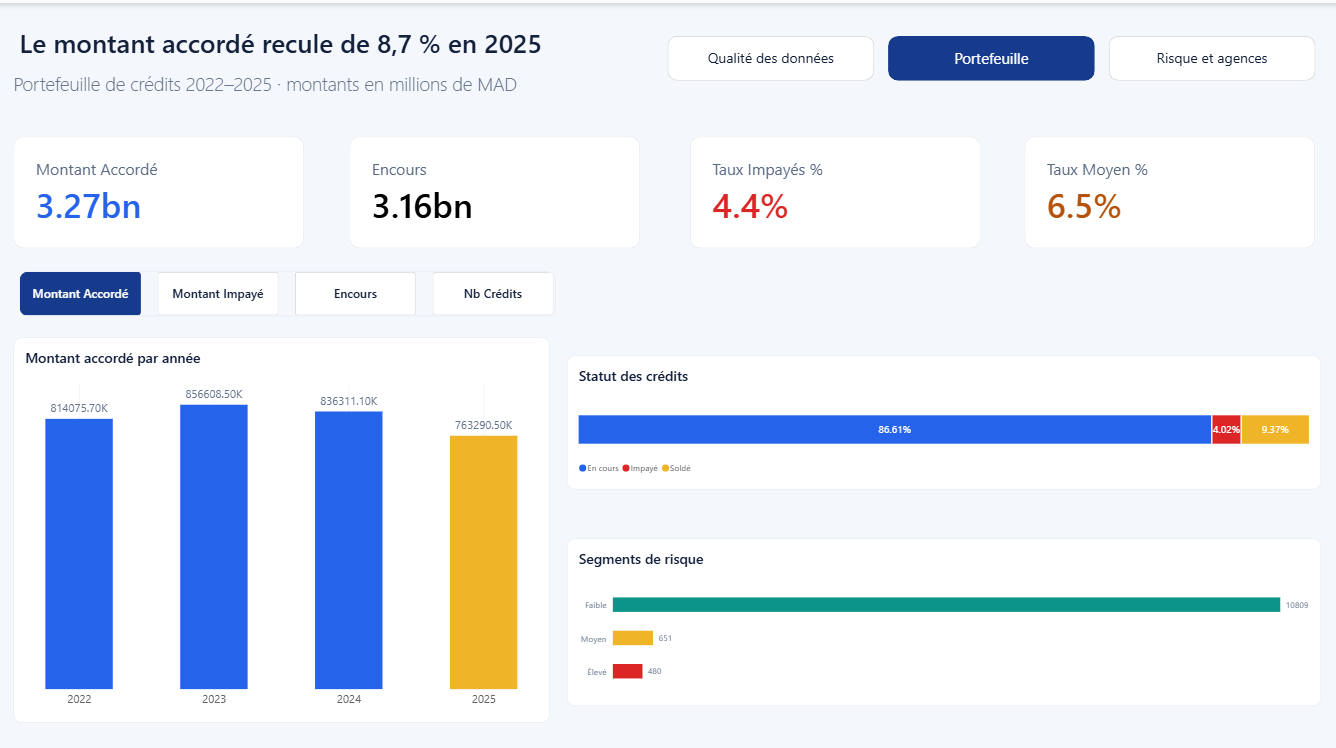

Layout of this report page (visuals, bound fields, positions):
{"tool":"powerbi","page":{"name":"Portefeuille","canvas":[1920,1080],"ordinal":1},"visuals":[{"type":"textbox","box":[32,32,864,64],"z":0},{"type":"textbox","box":[24,96,840,48],"z":1000},{"type":"cardVisual","fields":{"Data":["_Mesures.Taux Impayés %"]},"box":[992,192,416,160],"z":2000},{"type":"cardVisual","fields":{"Data":["_Mesures.Taux Moyen %"]},"box":[1472,192,416,160],"z":3000},{"type":"cardVisual","fields":{"Data":["_Mesures.Encours"]},"box":[504,192,416,160],"z":4000},{"type":"cardVisual","fields":{"Data":["_Mesures.Montant Accordé"]},"box":[24,192,416,160],"z":5000},{"type":"advancedSlicerVisual","fields":{"Label":["_Mesures.Montant Accordé"],"Values":["Indicateur.Indicateur"]},"box":[32,384,768,64],"z":6000},{"type":"hundredPercentStackedBarChart","title":"Statut des crédits","fields":{"Series":["Credits.statut"],"Y":["_Mesures.Nb Crédits"]},"box":[816,504,1080,192],"z":7000},{"type":"barChart","title":"Segments de risque","fields":{"Category":["Credits.Segment Risque"],"Y":["_Mesures.Nb Crédits"]},"box":[816,768,1080,240],"z":8000},{"type":"clusteredColumnChart","title":"Montant accordé par année","fields":{"Category":["Calendrier.Année"],"Y":["_Mesures.Montant Accordé"]},"box":[24,480,768,552],"z":9000},{"type":"pageNavigator","box":[960,48,928,64],"z":10000}]}

Visuals, with their boxes in screenshot pixels (x1, y1, x2, y2), scaled from the page's 1920x1080 canvas onto the 1336x748 screenshot:
textbox: locate(22, 22, 623, 66)
textbox: locate(17, 66, 601, 100)
cardVisual - _Mesures.Taux Impayés %: locate(690, 133, 980, 244)
cardVisual - _Mesures.Taux Moyen %: locate(1024, 133, 1314, 244)
cardVisual - _Mesures.Encours: locate(351, 133, 640, 244)
cardVisual - _Mesures.Montant Accordé: locate(17, 133, 306, 244)
advancedSlicerVisual - _Mesures.Montant Accordé x Indicateur.Indicateur: locate(22, 266, 557, 310)
"Statut des crédits" hundredPercentStackedBarChart: locate(568, 349, 1319, 482)
"Segments de risque" barChart: locate(568, 532, 1319, 698)
"Montant accordé par année" clusteredColumnChart: locate(17, 332, 551, 715)
pageNavigator: locate(668, 33, 1314, 78)
